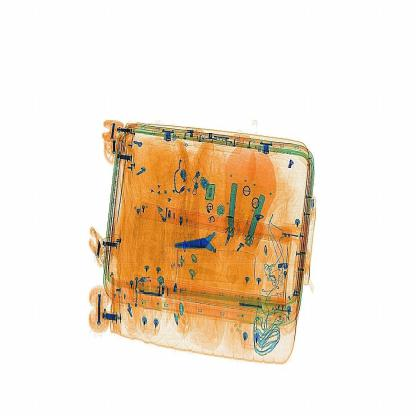gun: (170, 221, 233, 264)
